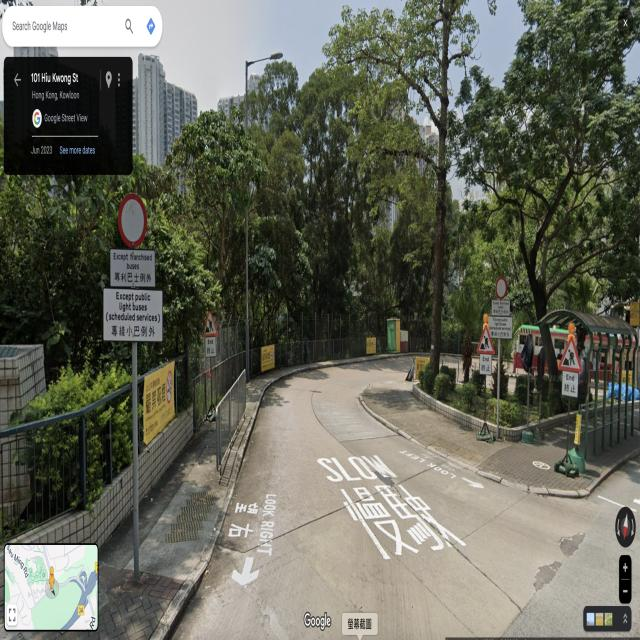Order-Sign: (104, 289, 163, 339), (110, 250, 154, 286), (119, 195, 146, 245), (489, 317, 512, 339), (563, 371, 578, 396), (492, 300, 510, 316), (480, 354, 492, 374), (205, 338, 216, 356), (496, 278, 506, 296)
Warning-Sign: (558, 334, 582, 372), (477, 324, 495, 354), (202, 308, 218, 336)
